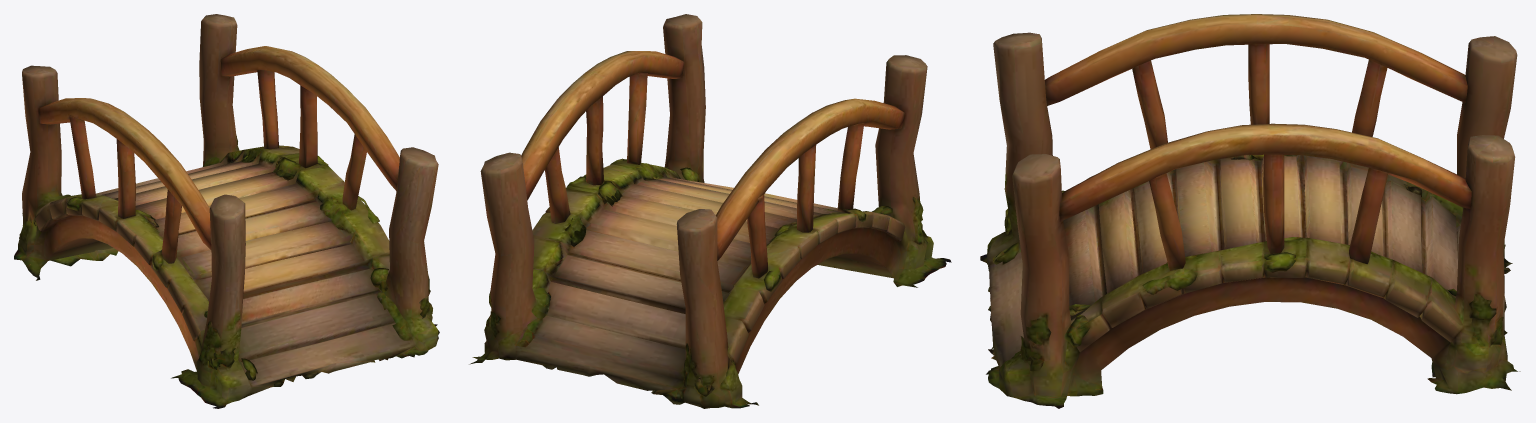
Rendered from wyn_bridge_plank_footbridge.glb.
The picture shows the model from 3 angles, left to right: view 1: azimuth 30°, elevation 25°; view 2: azimuth 150°, elevation 25°; view 3: azimuth 270°, elevation 25°; orthographic projection. The views are drawn at different scales.
Parts seen in each view (by area): view 1: tripo_node_98a4eca0-b3fd-430c-bdbb-6f77c0fe5b29; view 2: tripo_node_98a4eca0-b3fd-430c-bdbb-6f77c0fe5b29; view 3: tripo_node_98a4eca0-b3fd-430c-bdbb-6f77c0fe5b29.
Part boxes in pixels (x1,y1,x2,y2): tripo_node_98a4eca0-b3fd-430c-bdbb-6f77c0fe5b29: [14, 14, 439, 408]; tripo_node_98a4eca0-b3fd-430c-bdbb-6f77c0fe5b29: [469, 14, 951, 408]; tripo_node_98a4eca0-b3fd-430c-bdbb-6f77c0fe5b29: [980, 14, 1520, 408].
Bounding box in the file's own units: 2.62 × 2 × 3.77.
1 material, 1 textured.
